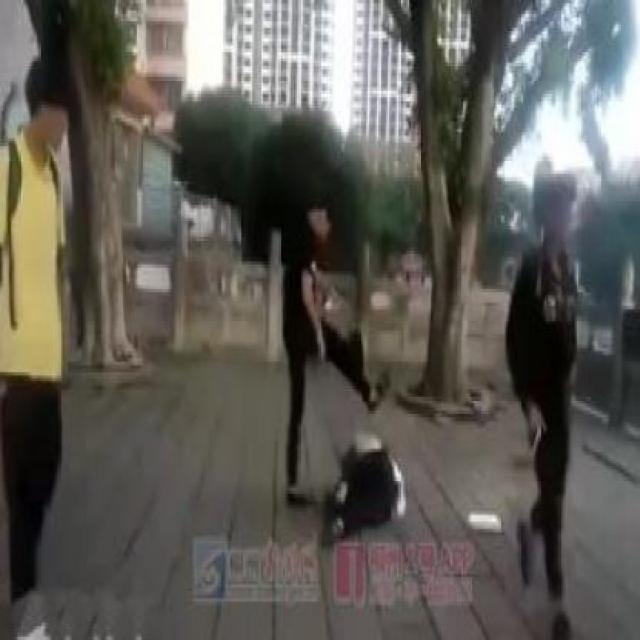fall: (316, 403, 410, 546)
